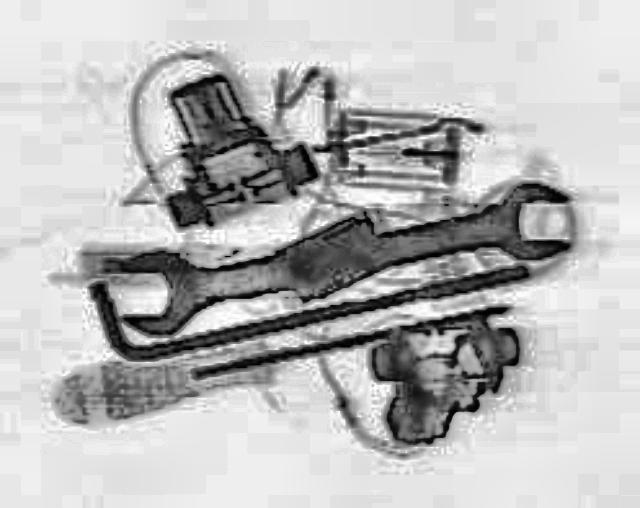Wrench: (97, 168, 588, 338)
